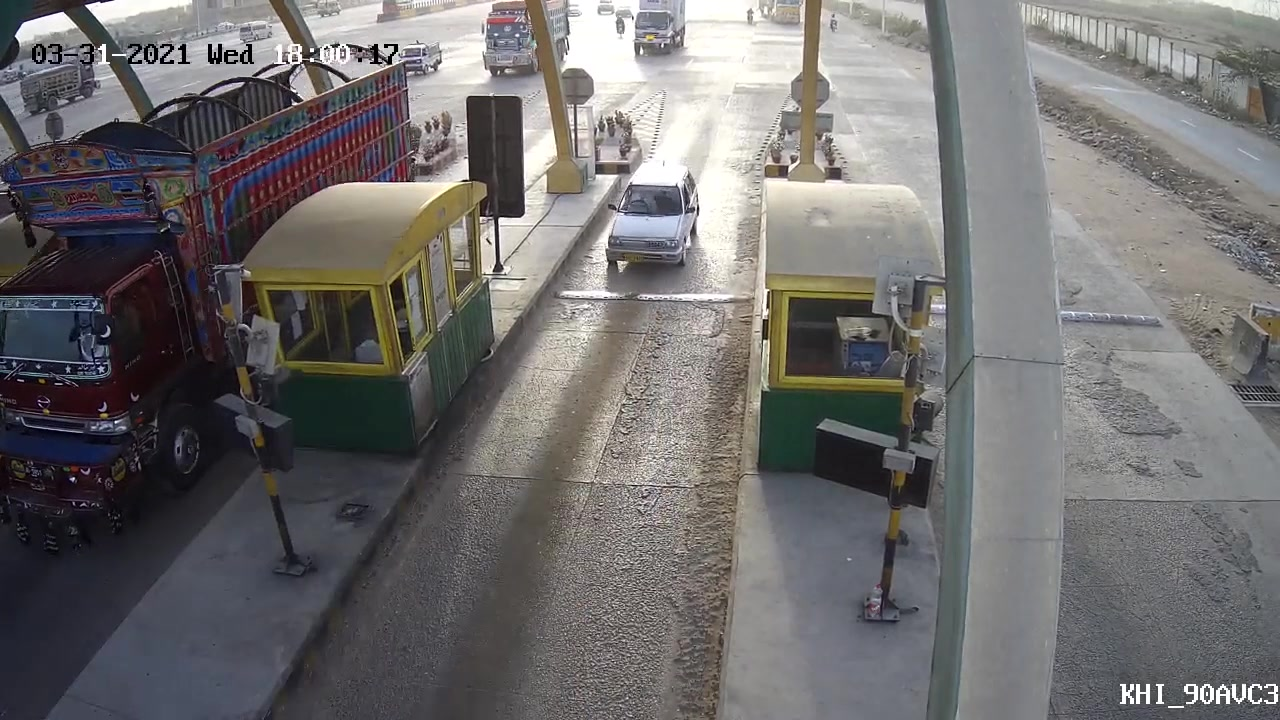F1: (596, 158, 709, 277)
